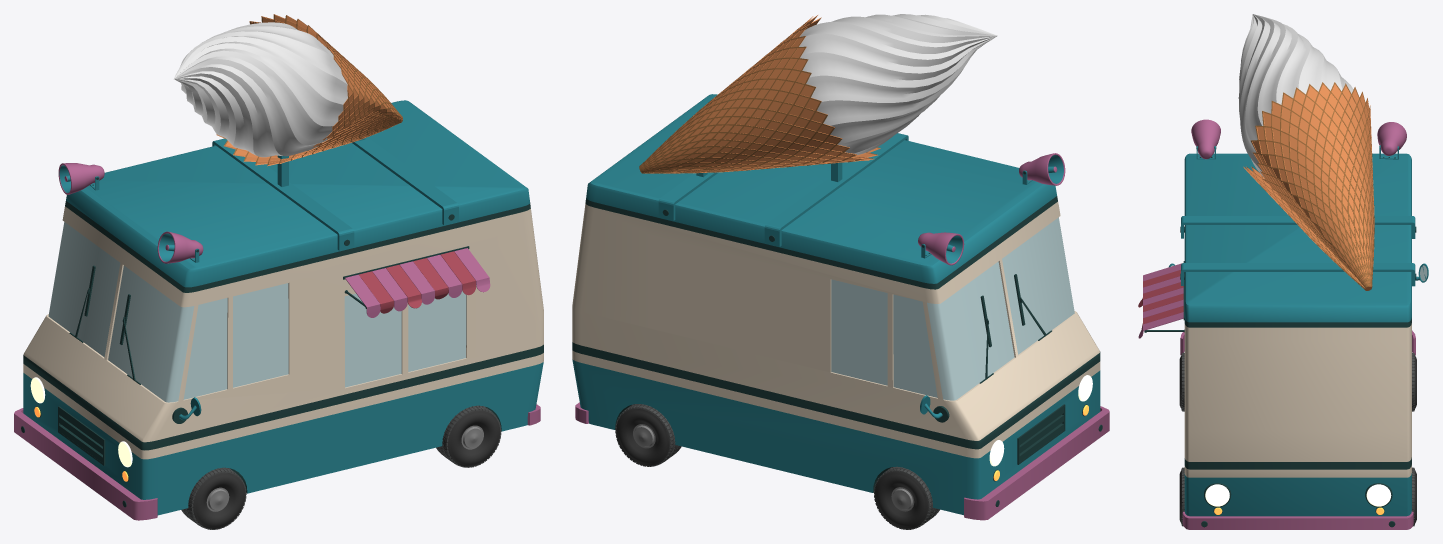
File: iceream_car.fbx
3 views of the same model, side by side, from view 1: azimuth 30°, elevation 25°; view 2: azimuth 150°, elevation 25°; view 3: azimuth 270°, elevation 25° (orthographic). The views are drawn at different scales.
Parts seen in each view (by area): view 1: Cube, Sphere, Circle.017, Circle, Cylinder, Cube.001, Plane.003, Circle.013, Plane.004, Plane, Cube.002; view 2: Cube, Sphere, Cylinder, Circle, Cube.001, Plane.003, Circle.013, Plane, Cube.002, Plane.004, Circle.003; view 3: Cube, Cylinder, Sphere, Cube.003, Circle.017, Plane.004, Circle.013, Plane.003, Circle.009, Circle, Plane.
Part boxes in pixels (x1=…): Cube: x1=23, y1=100, x2=543, y2=515; Sphere: x1=174, y1=22, x2=347, y2=157; Circle.017: x1=345, y1=248, x2=490, y2=317; Circle: x1=182, y1=405, x2=500, y2=528; Cylinder: x1=216, y1=14, x2=402, y2=166; Cube.001: x1=14, y1=408, x2=157, y2=520; Plane.003: x1=212, y1=138, x2=354, y2=250; Circle.013: x1=58, y1=163, x2=203, y2=263; Plane.004: x1=352, y1=137, x2=458, y2=225; Plane: x1=181, y1=405, x2=501, y2=529; Cube.002: x1=59, y1=409, x2=102, y2=462; Cube: x1=572, y1=94, x2=1100, y2=515; Sphere: x1=799, y1=14, x2=997, y2=154; Cylinder: x1=639, y1=15, x2=880, y2=173; Circle: x1=616, y1=404, x2=939, y2=528; Cube.001: x1=964, y1=406, x2=1109, y2=520; Plane.003: x1=764, y1=133, x2=908, y2=246; Circle.013: x1=918, y1=153, x2=1065, y2=265; Plane: x1=615, y1=404, x2=939, y2=529; Cube.002: x1=1019, y1=407, x2=1063, y2=461; Plane.004: x1=658, y1=172, x2=718, y2=220; Circle.003: x1=989, y1=375, x2=1092, y2=466; Cube: x1=1184, y1=153, x2=1411, y2=516; Cylinder: x1=1243, y1=82, x2=1374, y2=290; Sphere: x1=1238, y1=14, x2=1353, y2=178; Cube.003: x1=1182, y1=511, x2=1413, y2=529; Circle.017: x1=1138, y1=263, x2=1183, y2=338; Plane.004: x1=1181, y1=263, x2=1415, y2=286; Circle.013: x1=1191, y1=119, x2=1406, y2=159; Plane.003: x1=1181, y1=216, x2=1415, y2=238; Circle.009: x1=1205, y1=484, x2=1391, y2=506; Circle: x1=1179, y1=353, x2=1416, y2=524; Plane: x1=1181, y1=352, x2=1414, y2=526.
Size of the model in its own units: 626 by 634 by 414.
